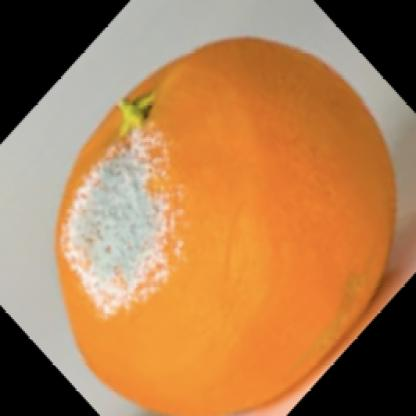rotten: (58, 35, 396, 416)
